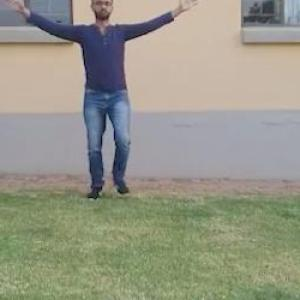takeoff: (7, 0, 202, 202)
